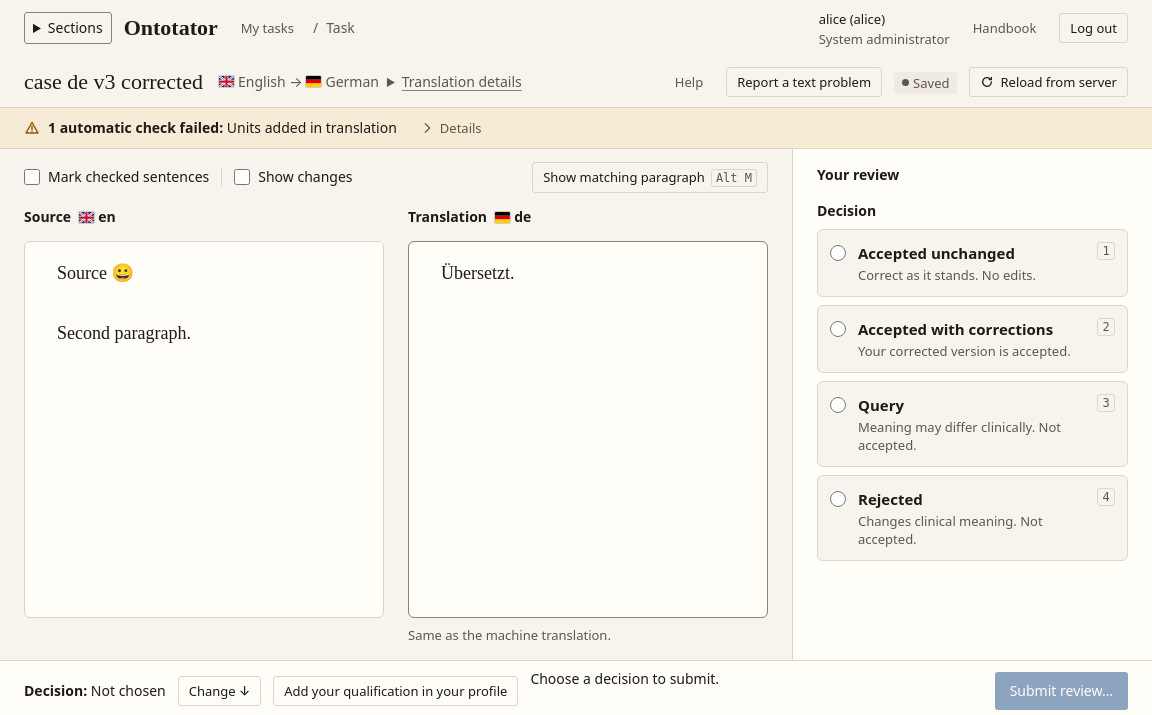
flushes raw review work before following its real qualification profile link
Replace the text in the text box named "Translation (de)" with "Preserve this correction" at (588, 430), box [409,242,767,617]
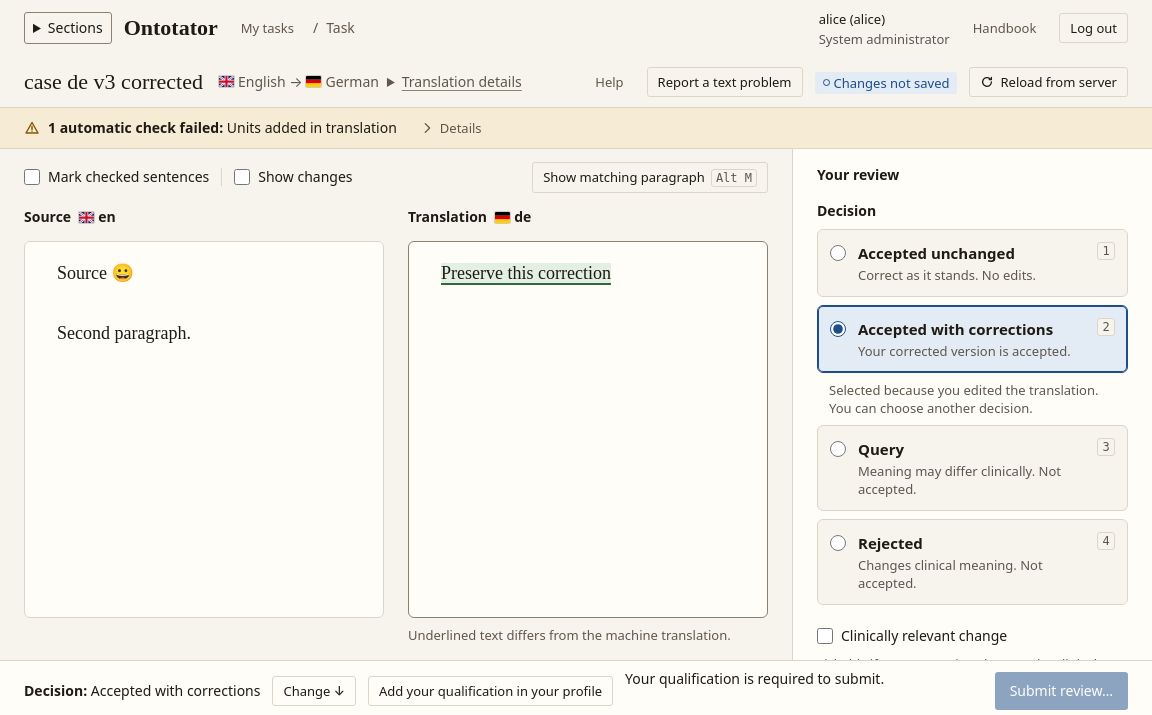
Click the link "Add your qualification in your profile" at (490, 690), box [368,676,613,706]
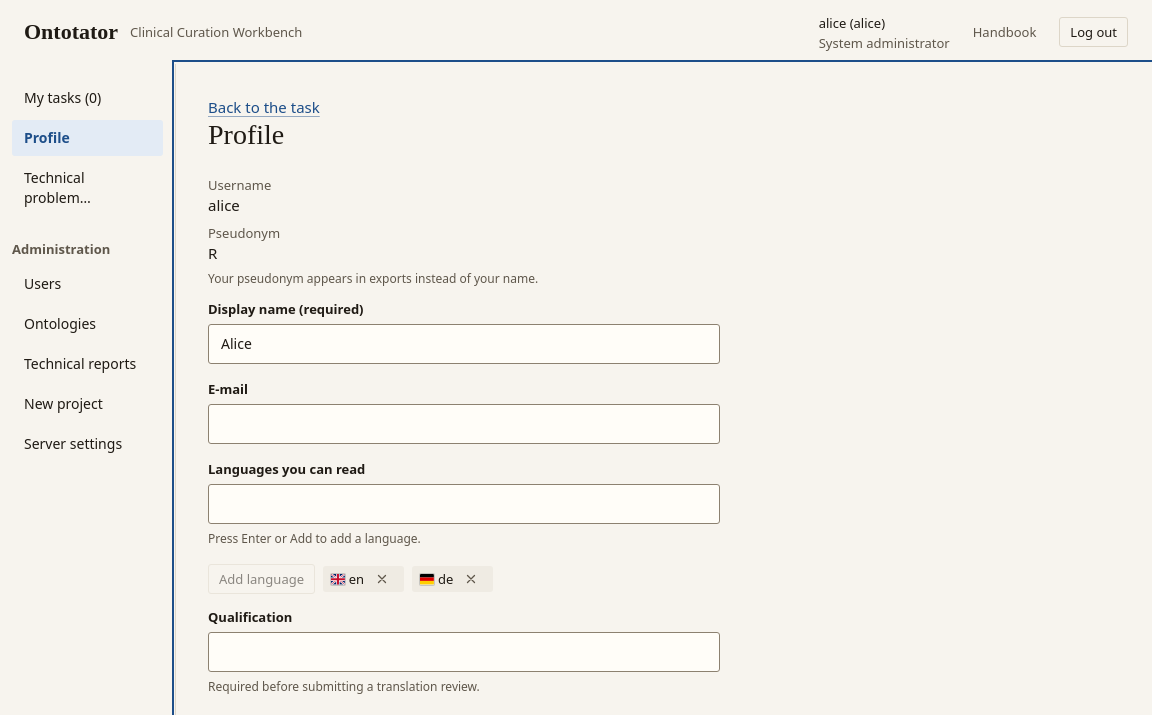
Expected: the heading "Profile" is shown, [208,119,284,150]
